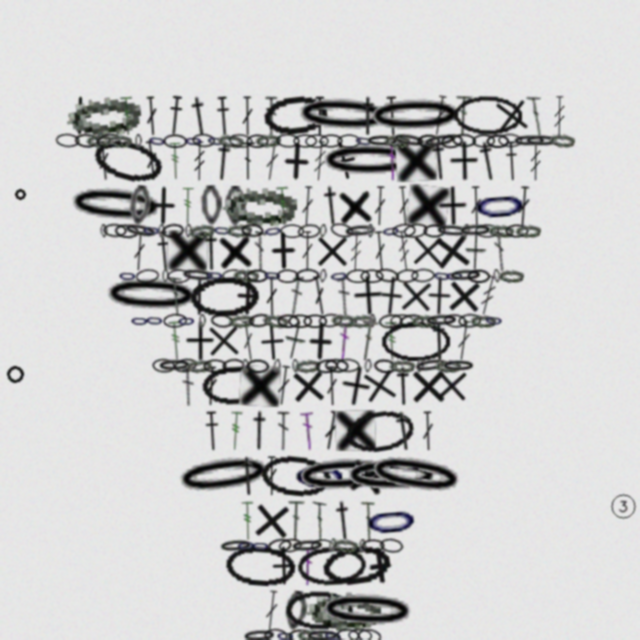chain: (364, 448, 468, 503), (172, 449, 276, 502), (65, 182, 167, 229), (293, 453, 395, 498), (293, 93, 394, 138), (317, 589, 418, 633), (101, 274, 202, 317), (89, 133, 166, 189), (365, 95, 466, 137), (342, 456, 442, 496), (318, 141, 418, 181), (65, 92, 143, 140), (343, 406, 416, 456), (320, 541, 392, 590), (259, 452, 332, 499), (261, 92, 331, 139), (224, 543, 296, 588), (296, 544, 368, 588), (307, 590, 381, 631), (201, 364, 270, 407), (223, 186, 297, 226), (189, 275, 259, 317), (285, 590, 354, 631), (453, 95, 522, 136), (381, 321, 450, 361), (362, 499, 421, 543), (471, 184, 529, 227), (292, 456, 348, 496), (283, 590, 309, 632), (128, 185, 152, 226), (200, 185, 223, 226), (225, 186, 246, 226), (122, 221, 159, 241), (422, 131, 458, 151), (413, 356, 449, 375), (391, 131, 427, 150), (180, 267, 216, 284), (218, 538, 254, 554), (290, 538, 325, 554), (343, 223, 378, 239), (435, 223, 470, 239), (157, 358, 192, 373), (424, 313, 459, 328), (448, 268, 483, 283), (458, 223, 493, 238), (329, 221, 355, 240), (441, 359, 476, 373), (365, 134, 400, 148), (512, 134, 547, 148), (524, 134, 559, 148), (188, 222, 215, 240), (374, 267, 400, 284), (96, 132, 122, 149), (185, 358, 212, 374), (294, 358, 321, 374), (228, 313, 255, 329), (262, 313, 289, 329), (348, 313, 375, 329), (217, 133, 244, 149), (267, 537, 292, 554), (278, 537, 303, 554), (379, 537, 404, 554), (173, 357, 198, 374), (403, 222, 428, 239), (242, 628, 277, 640), (248, 312, 272, 329), (161, 222, 185, 239), (378, 313, 403, 329), (399, 313, 424, 329), (135, 268, 160, 284), (114, 223, 139, 239), (228, 133, 253, 149), (332, 538, 358, 553), (331, 313, 357, 328), (233, 268, 259, 283), (226, 223, 252, 238), (86, 133, 112, 148), (255, 133, 281, 148), (549, 133, 575, 148), (305, 629, 340, 640), (315, 358, 339, 374), (373, 358, 397, 374), (210, 313, 234, 329), (443, 313, 467, 329), (395, 268, 419, 284), (297, 223, 321, 239), (440, 133, 464, 149), (324, 358, 349, 373), (318, 313, 343, 328), (55, 133, 80, 148), (74, 133, 99, 148), (389, 359, 415, 373), (435, 359, 461, 373), (411, 314, 437, 328), (470, 314, 496, 328), (498, 269, 524, 283), (488, 224, 514, 238), (515, 224, 541, 238), (106, 134, 132, 148), (384, 134, 410, 148), (336, 358, 360, 373), (163, 313, 187, 328), (295, 268, 319, 283), (411, 268, 435, 283), (103, 223, 127, 238), (392, 223, 416, 238), (276, 133, 300, 148), (452, 133, 476, 148), (498, 133, 522, 148), (152, 358, 175, 373), (222, 358, 245, 373), (458, 313, 481, 328), (241, 223, 264, 238), (192, 133, 215, 148), (311, 539, 335, 553), (361, 539, 385, 553), (203, 359, 227, 373), (288, 314, 312, 328), (303, 314, 327, 328), (390, 314, 414, 328), (167, 269, 191, 283), (222, 269, 246, 283), (346, 269, 370, 283), (360, 269, 384, 283), (280, 224, 304, 238), (475, 224, 499, 238), (505, 224, 529, 238), (163, 134, 187, 148), (293, 134, 317, 148), (305, 134, 329, 148), (319, 134, 343, 148), (337, 134, 361, 148), (246, 359, 269, 373), (277, 314, 300, 328), (246, 269, 269, 283), (276, 269, 299, 283), (467, 269, 490, 283), (423, 224, 446, 238), (246, 134, 269, 148), (417, 134, 440, 148), (472, 134, 495, 148), (486, 134, 509, 148), (329, 268, 349, 284), (432, 268, 452, 284), (263, 223, 283, 239), (381, 223, 401, 239), (147, 133, 167, 149), (206, 133, 226, 149), (354, 133, 374, 149), (297, 628, 323, 640), (357, 628, 382, 640), (236, 538, 256, 553), (484, 313, 504, 328), (212, 223, 232, 238), (264, 628, 288, 640), (336, 628, 360, 640), (348, 628, 372, 640), (145, 313, 164, 328), (205, 268, 224, 283), (263, 268, 282, 283), (142, 223, 161, 238), (251, 539, 270, 553), (130, 314, 149, 328), (177, 314, 196, 328), (118, 269, 137, 283), (445, 269, 464, 283), (184, 134, 203, 148), (288, 629, 312, 640), (323, 628, 343, 640), (276, 629, 295, 640), (328, 538, 337, 553), (242, 359, 250, 373), (273, 359, 281, 373), (364, 359, 372, 373), (416, 359, 424, 373), (319, 269, 327, 283), (493, 269, 501, 283), (100, 224, 108, 238), (319, 224, 327, 238), (462, 224, 470, 238), (359, 539, 366, 553), (292, 359, 299, 373), (199, 314, 206, 328), (369, 314, 376, 328), (162, 269, 169, 283), (158, 224, 165, 238), (185, 224, 192, 238), (367, 224, 374, 238), (135, 134, 142, 148)
double: (357, 320, 379, 362), (526, 95, 546, 136), (322, 410, 341, 451), (310, 275, 329, 316), (430, 95, 449, 136), (454, 96, 473, 136), (239, 320, 257, 361), (455, 320, 473, 361), (263, 140, 281, 181), (287, 501, 305, 541), (263, 590, 280, 631), (275, 365, 292, 406), (143, 140, 160, 181), (167, 276, 184, 316), (300, 410, 316, 451), (288, 275, 304, 316), (96, 140, 112, 181), (336, 321, 352, 361), (372, 231, 388, 271), (396, 186, 412, 226), (240, 141, 256, 181), (312, 501, 327, 541), (360, 501, 375, 541), (204, 366, 219, 406), (132, 231, 147, 271), (300, 186, 315, 226), (516, 186, 531, 226), (144, 96, 159, 136), (421, 411, 435, 451), (325, 366, 339, 406), (337, 276, 351, 316), (373, 186, 387, 226), (469, 186, 483, 226), (385, 141, 399, 181), (301, 546, 314, 586), (265, 456, 278, 496), (277, 411, 290, 451), (265, 276, 278, 316), (253, 231, 266, 271), (301, 231, 314, 271), (241, 96, 254, 136), (265, 96, 278, 136), (182, 366, 194, 406), (494, 231, 505, 271)
half_double: (474, 140, 502, 182), (210, 140, 237, 182), (186, 95, 213, 137), (391, 410, 417, 452), (331, 500, 356, 541), (247, 410, 272, 451), (319, 185, 344, 226), (427, 140, 452, 181), (236, 456, 260, 496), (356, 96, 380, 136), (392, 366, 415, 406), (428, 321, 451, 361), (200, 231, 223, 271), (166, 95, 185, 136), (155, 230, 173, 271), (203, 411, 221, 451), (383, 96, 401, 136), (503, 141, 520, 181), (215, 96, 232, 136), (192, 276, 207, 316), (312, 96, 327, 136)
noise: (609, 492, 637, 520), (4, 363, 26, 385), (14, 188, 27, 201)
single: (356, 362, 403, 409), (320, 137, 367, 184), (357, 543, 402, 588), (489, 93, 534, 138), (346, 453, 389, 499), (430, 229, 474, 273), (406, 184, 450, 228), (250, 499, 293, 542), (370, 274, 413, 317), (239, 365, 281, 407), (287, 365, 329, 407), (251, 320, 293, 362), (299, 320, 341, 362), (227, 275, 269, 317), (395, 275, 437, 317), (443, 275, 485, 317), (275, 140, 317, 182), (395, 140, 437, 182), (263, 545, 304, 586), (335, 410, 376, 451), (431, 365, 472, 406), (203, 320, 244, 361), (419, 275, 460, 316), (167, 230, 208, 271), (263, 230, 304, 271), (407, 230, 448, 271), (143, 185, 184, 226), (59, 95, 100, 136), (216, 230, 255, 272), (336, 185, 375, 227), (337, 364, 374, 408), (408, 366, 448, 406), (312, 231, 352, 271), (351, 275, 384, 316), (436, 186, 468, 226), (281, 319, 310, 362), (184, 321, 215, 361), (448, 141, 479, 181), (465, 231, 487, 271)
treble: (477, 275, 499, 316), (167, 320, 185, 361), (395, 230, 413, 271), (275, 186, 292, 226), (119, 96, 136, 136), (384, 321, 400, 361), (312, 141, 328, 181), (228, 411, 243, 451), (168, 141, 183, 181), (349, 231, 363, 271), (181, 186, 195, 226), (241, 501, 254, 541), (193, 141, 206, 181), (529, 141, 542, 181), (553, 96, 566, 136)
